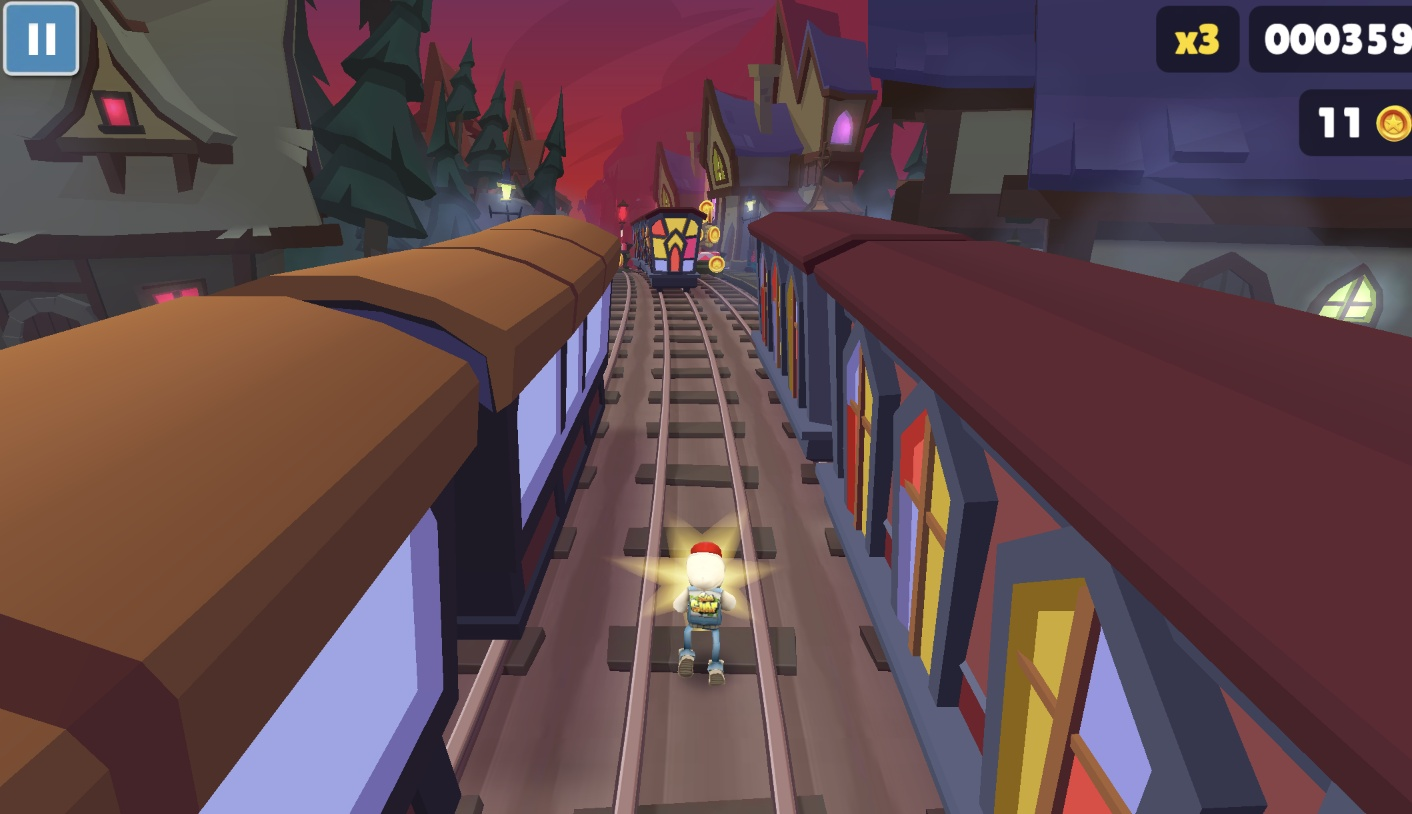train: (749, 211, 1412, 814), (0, 213, 621, 814), (635, 208, 709, 294)
